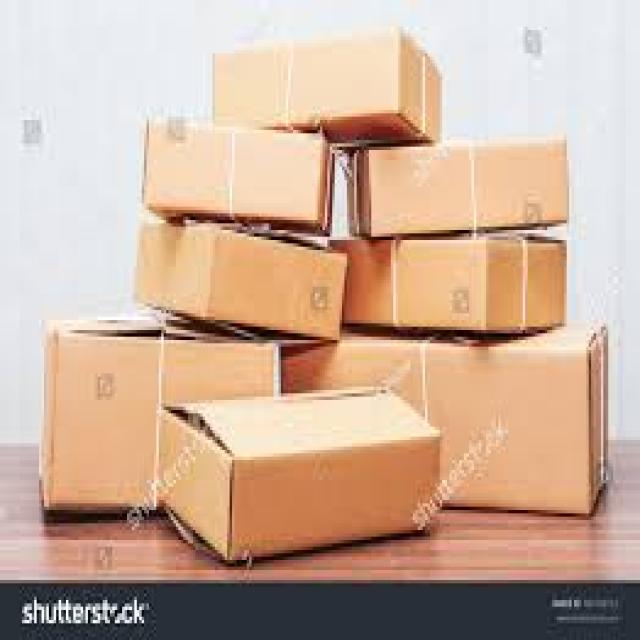box: (284, 327, 608, 513), (162, 390, 439, 559), (42, 320, 278, 513), (213, 30, 442, 143), (135, 224, 346, 339), (333, 237, 566, 333), (145, 120, 332, 233), (350, 140, 569, 236)
